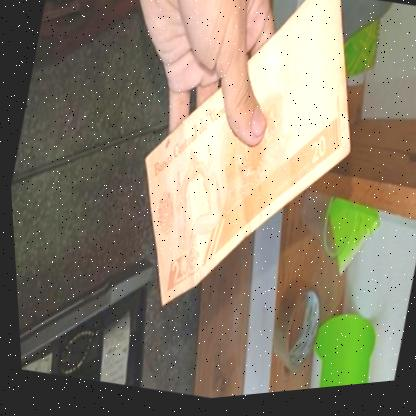twenty-back-vef: (99, 0, 393, 349)
